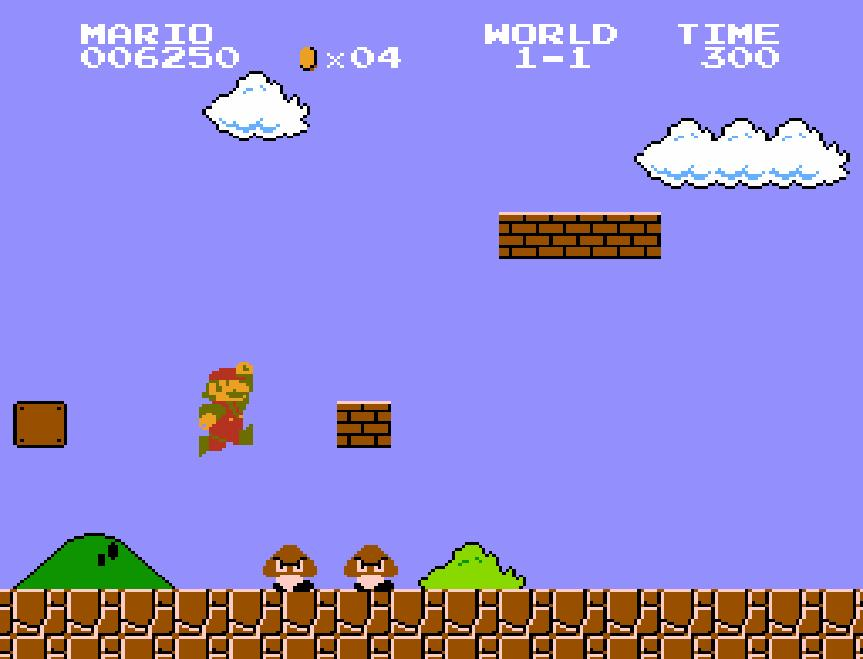big_mario: (196, 360, 254, 458)
